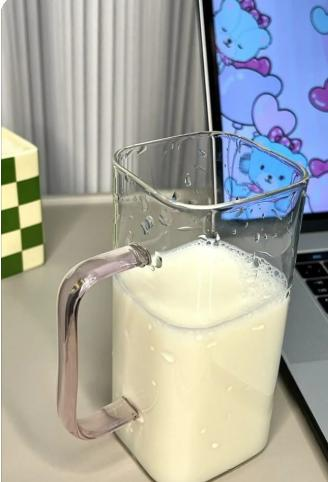produk_susu: (118, 147, 275, 471)
